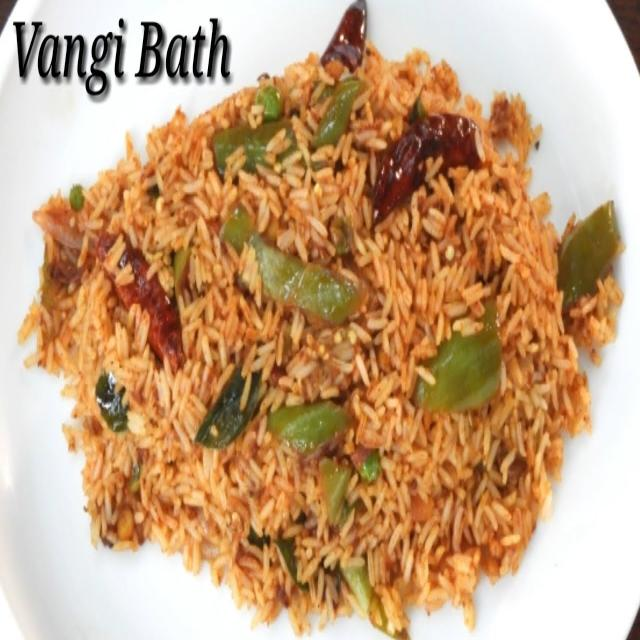vangi bath: (17, 14, 629, 640)
